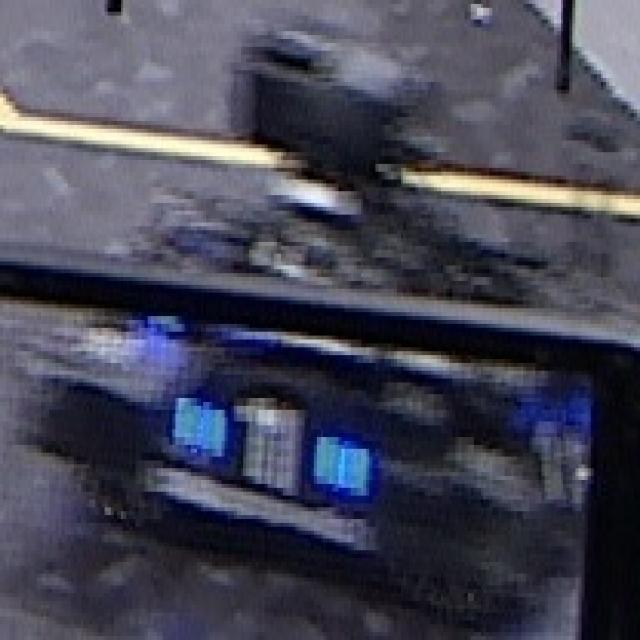B1: (160, 379, 375, 519)
